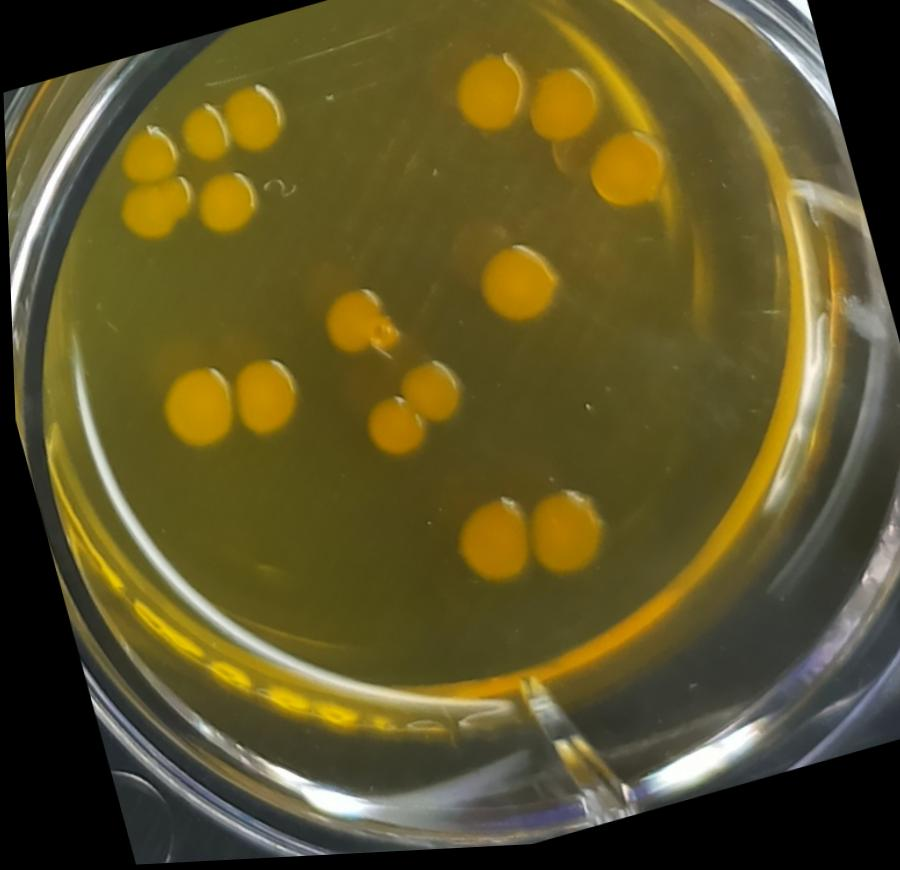vharveyi: (455, 230, 574, 350), (570, 116, 685, 228), (511, 474, 617, 593), (438, 487, 542, 607), (438, 40, 545, 150), (145, 356, 250, 461), (513, 57, 614, 161), (310, 275, 405, 379), (218, 346, 310, 450), (107, 166, 206, 250), (213, 76, 294, 167), (181, 162, 266, 248), (390, 348, 469, 436), (350, 391, 431, 469), (107, 116, 187, 193), (169, 99, 238, 173)
